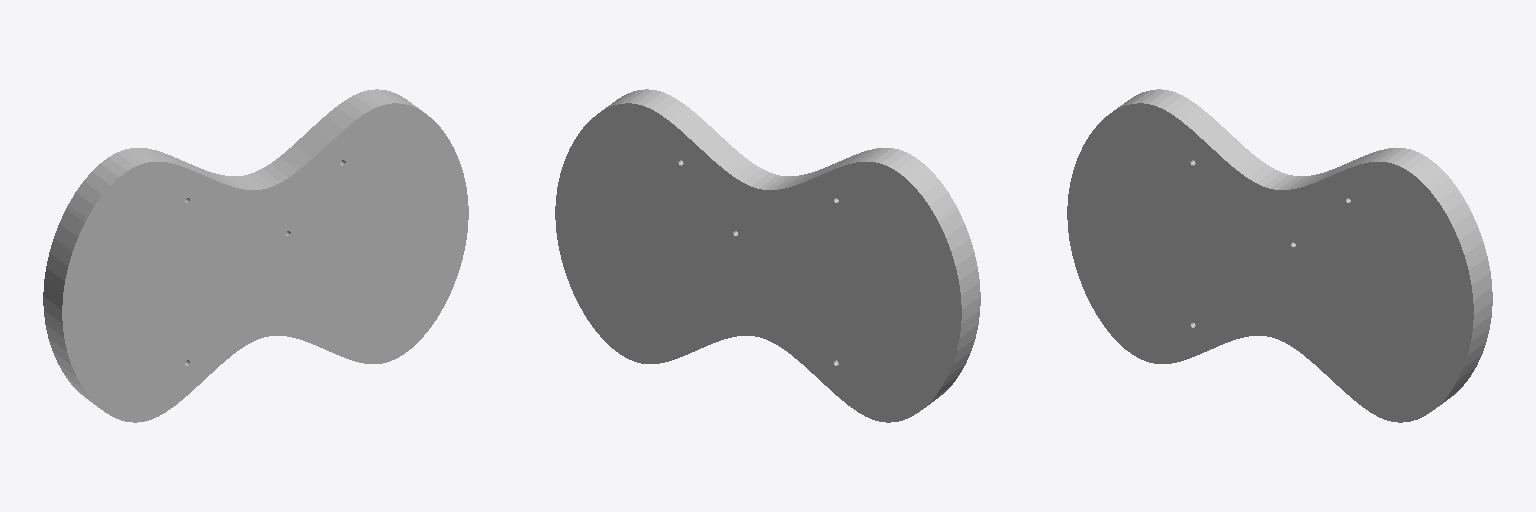
File: butter.obj
3 renders of one model, left to right at view 1: azimuth 30°, elevation 25°; view 2: azimuth 150°, elevation 25°; view 3: azimuth 330°, elevation 25°, orthographic.
Visible parts, largest first — view 1: StainlessSteel_butter; view 2: StainlessSteel_butter; view 3: StainlessSteel_butter.
Part boxes in pixels (x1,y1,x2,y2): StainlessSteel_butter: (43,89,468,422); StainlessSteel_butter: (555,89,980,422); StainlessSteel_butter: (1067,89,1492,422).
Bounding box in the file's own units: 0.1573 × 0.0955 × 0.0127.